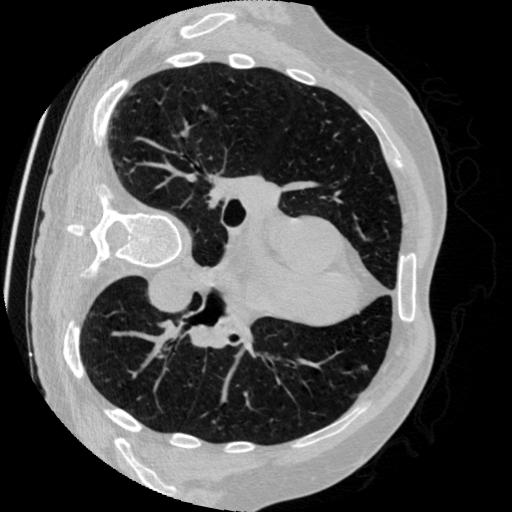nodule: (361, 362, 372, 373)
